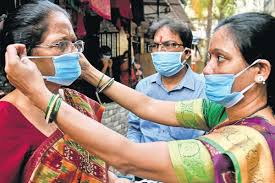mask: (203, 28, 254, 109), (38, 9, 82, 85), (149, 28, 185, 75), (101, 46, 112, 62)
